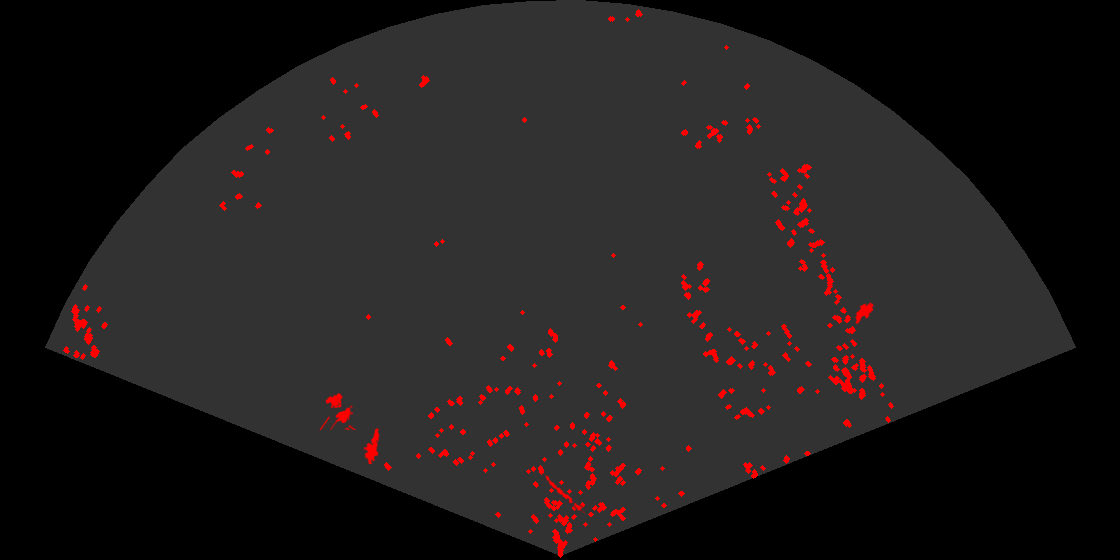AUV: (854, 301, 876, 326)
cage: (318, 391, 358, 430)
chain: (541, 473, 585, 516)
frogman: (362, 427, 381, 464)
